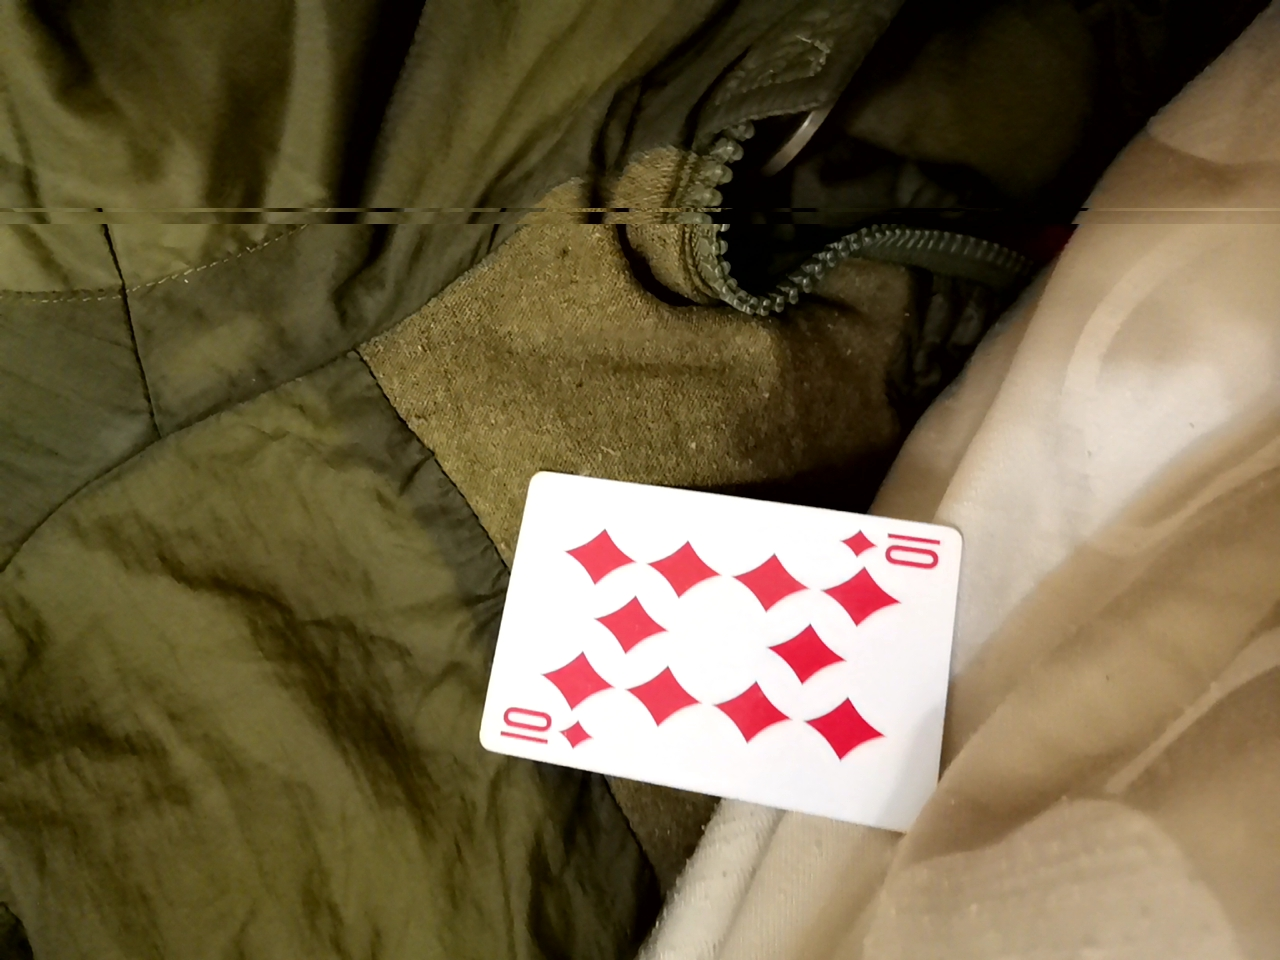fk 10: (421, 499, 940, 864)
